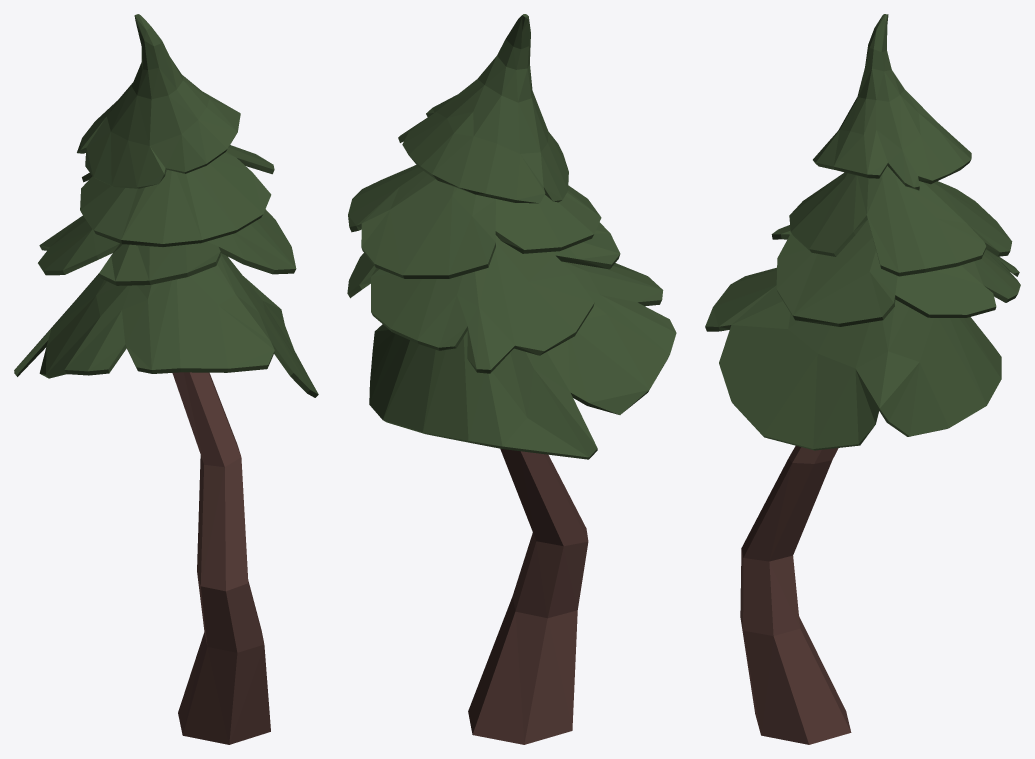
The model's file is PineTree_4.glb.
The picture shows the model from 3 angles, left to right: view 1: azimuth 30°, elevation 25°; view 2: azimuth 150°, elevation 25°; view 3: azimuth 270°, elevation 25°; orthographic projection. The views are drawn at different scales.
Parts seen in each view (by area): view 1: PineTree_4_Cylinder.027; view 2: PineTree_4_Cylinder.027; view 3: PineTree_4_Cylinder.027.
Boxes of the visible parts, left/top/right/bottom form: PineTree_4_Cylinder.027: left=14, top=14, right=318, bottom=744; PineTree_4_Cylinder.027: left=347, top=14, right=676, bottom=744; PineTree_4_Cylinder.027: left=705, top=14, right=1020, bottom=744.
Size of the model in its own units: 1.25 by 3.34 by 1.39.
